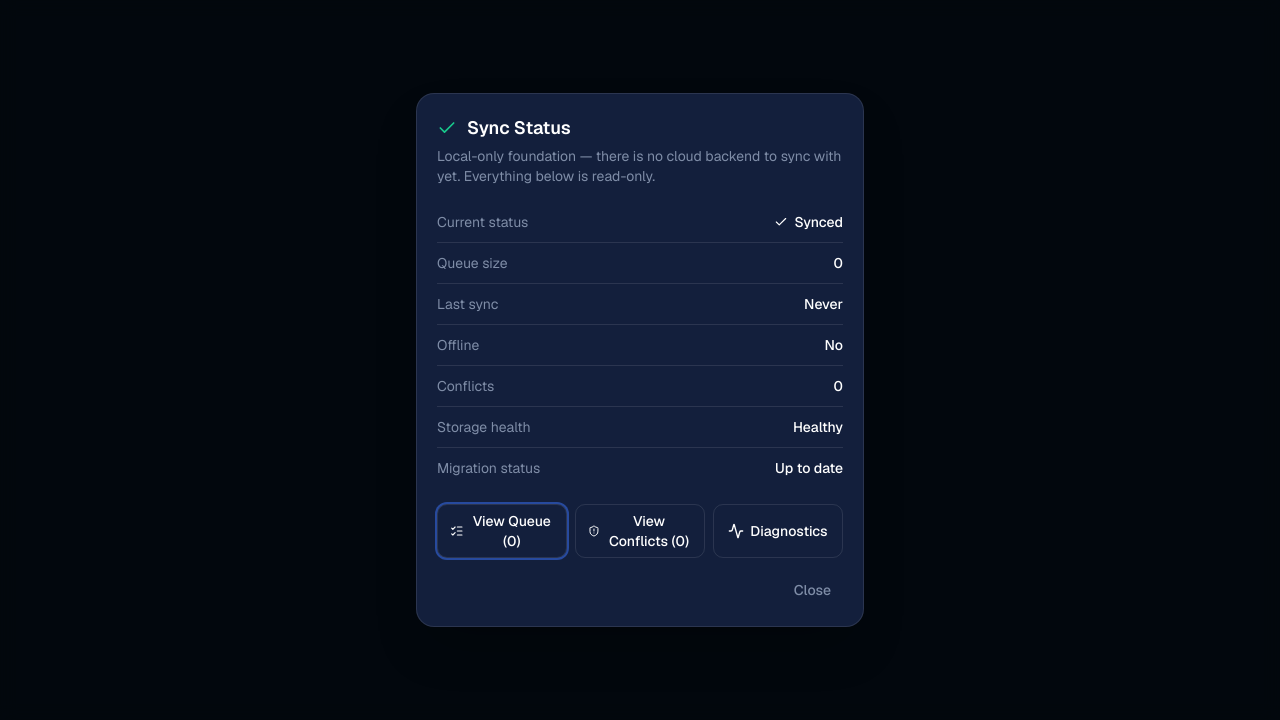
Test: SyncStatusCard › View Queue closes this dialog and opens the real Sync Queue dialog
What coordinates should you click on to do the following:
click the button "View Queue (0)"
I would click on:
 (502, 531)
Its box is [437,504,567,558].
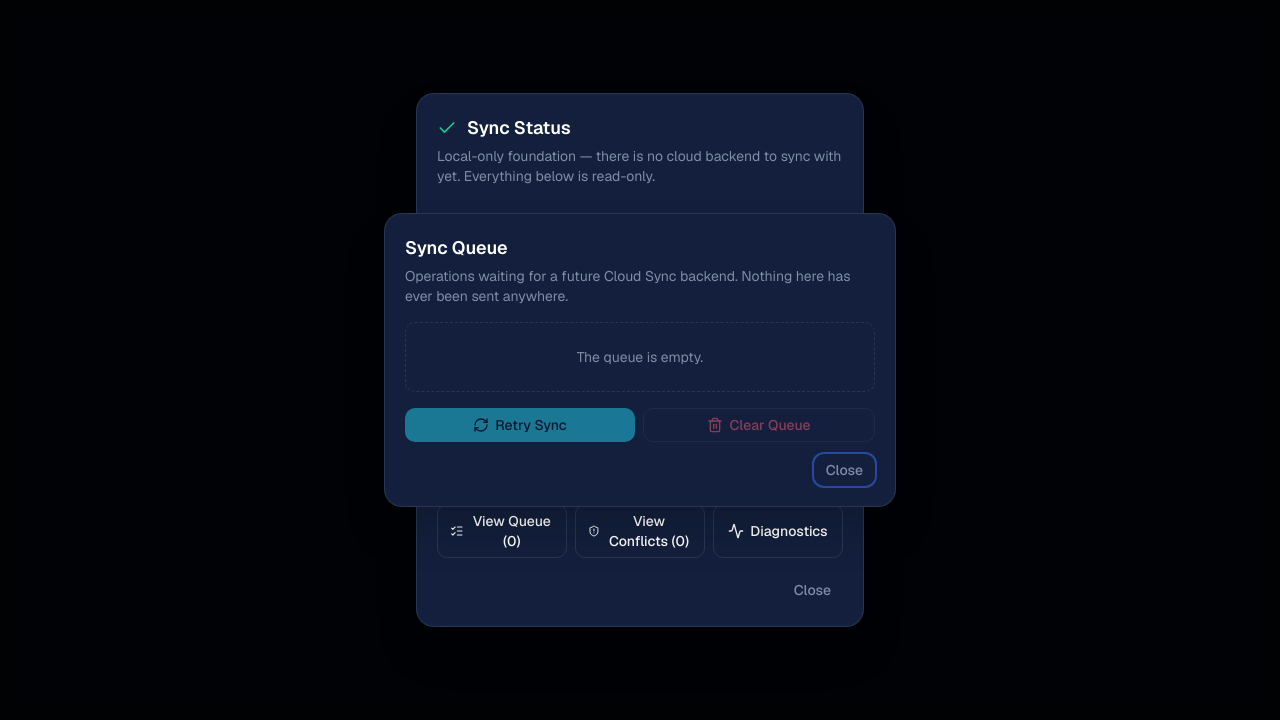
Check: the dialog "Sync Queue" is shown, box [384,213,896,507]
